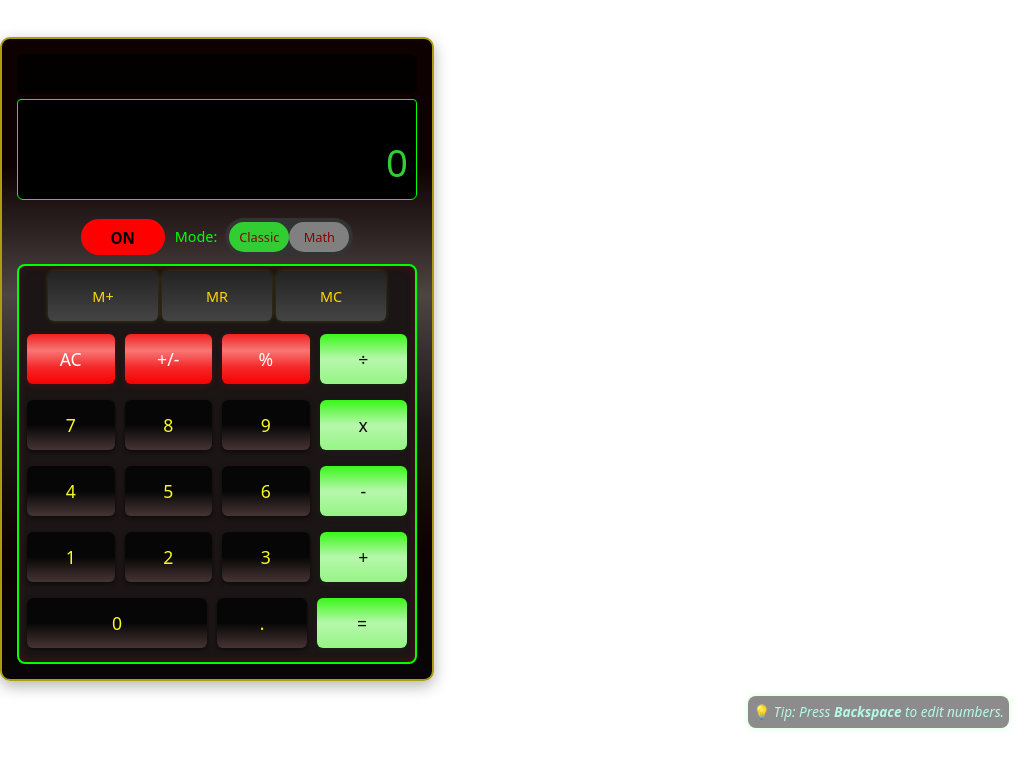
plus/minus toggles sign
Step 1. Click the button named "button-5" → point(168, 491), box [124,466,212,516]
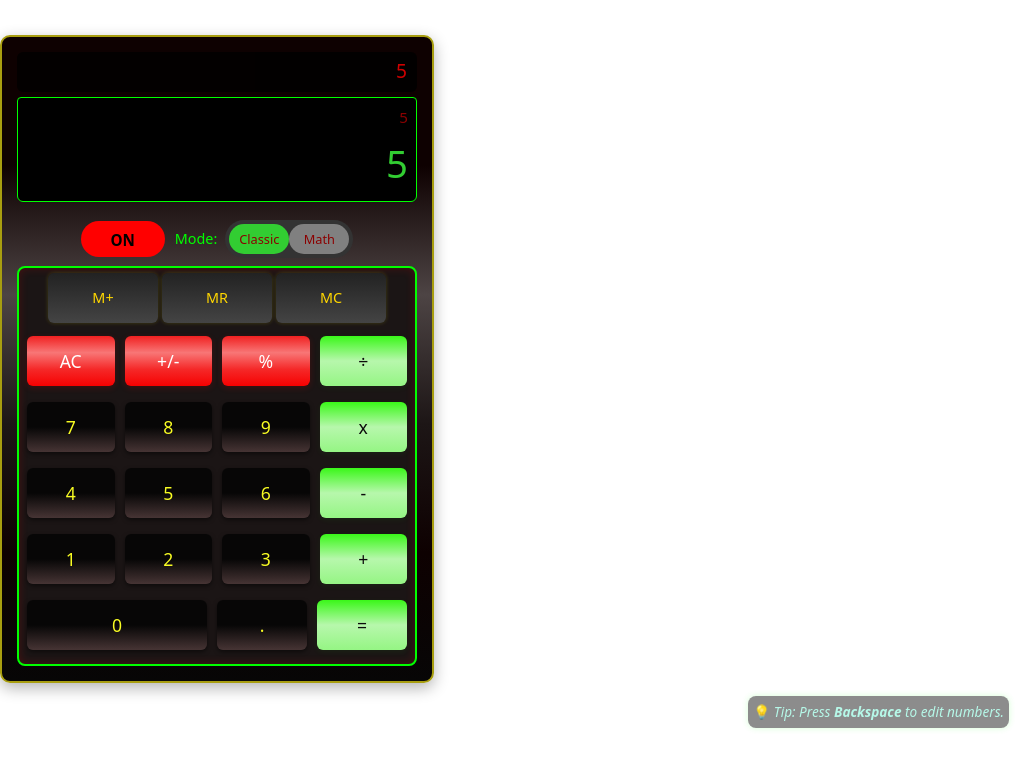
Step 2. Click the button named "button-+/-" → point(168, 361), box [124,336,212,386]
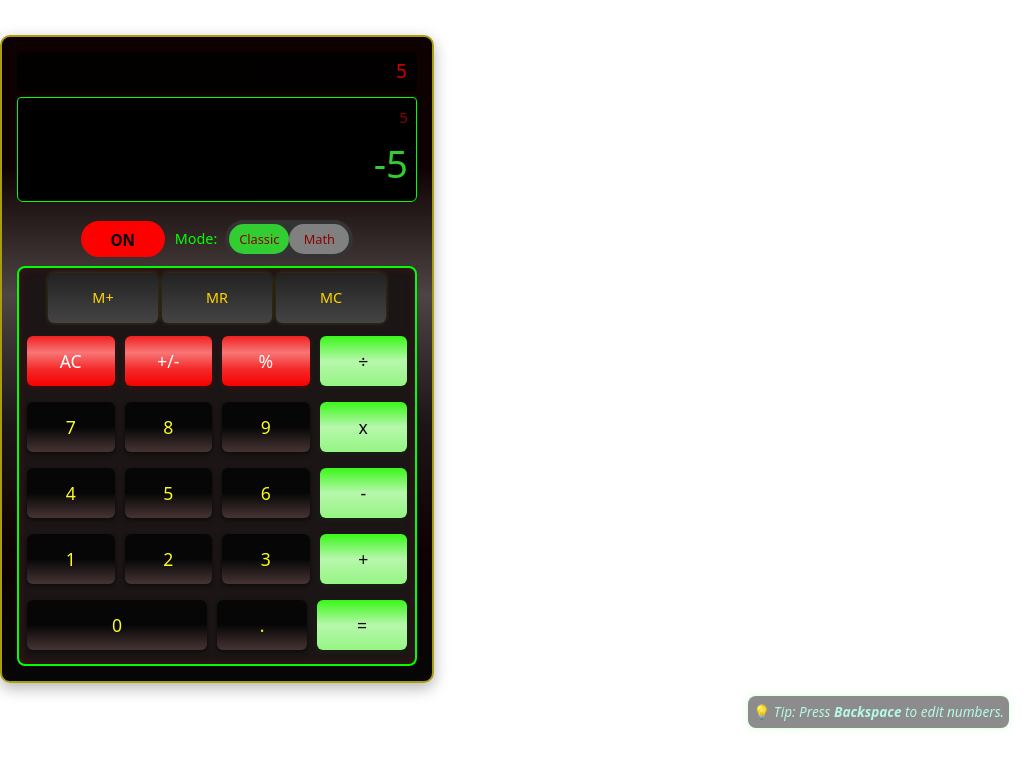
Expected: the message with id "display" shows "-5", [374,137,408,189]
